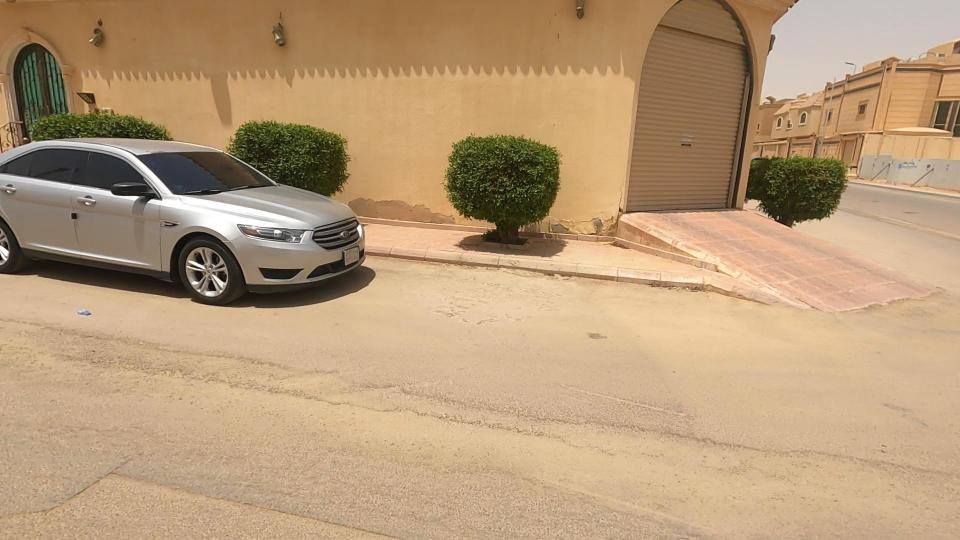POTHOLES: (192, 325, 708, 498), (16, 279, 330, 441)
